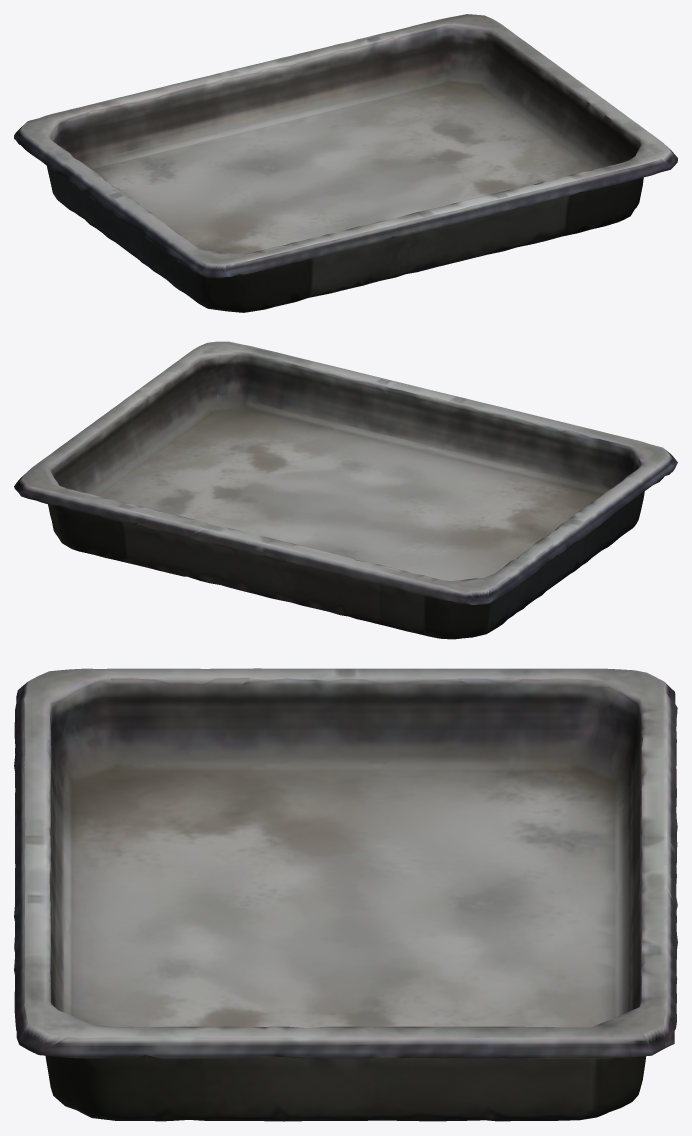
The model's file is ingredient_tray.glb.
The picture shows the model from 3 angles, top to bottom: view 1: azimuth 30°, elevation 25°; view 2: azimuth 150°, elevation 25°; view 3: azimuth 270°, elevation 25°; orthographic projection. The views are drawn at different scales.
Visible parts, largest first — view 1: MetalTray; view 2: MetalTray; view 3: MetalTray.
Boxes of the visible parts, x1=… form: MetalTray: x1=14, y1=14, x2=677, y2=312; MetalTray: x1=14, y1=341, x2=677, y2=639; MetalTray: x1=14, y1=668, x2=677, y2=1121.
Size of the model in its own units: 0.3 by 0.0367 by 0.222.
Materials: 1 (1 with a texture image).
